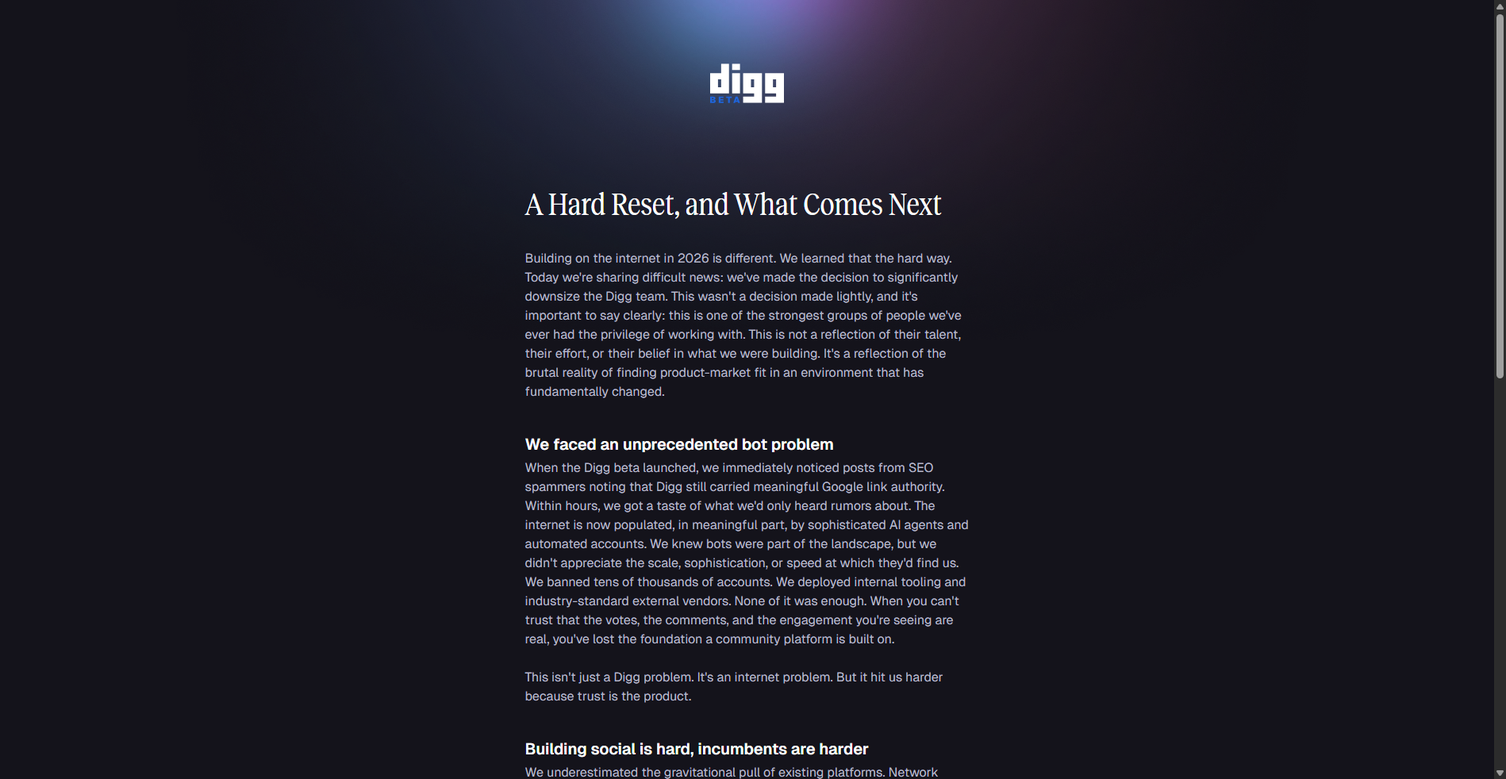general_image: (176, 0, 1318, 340)
